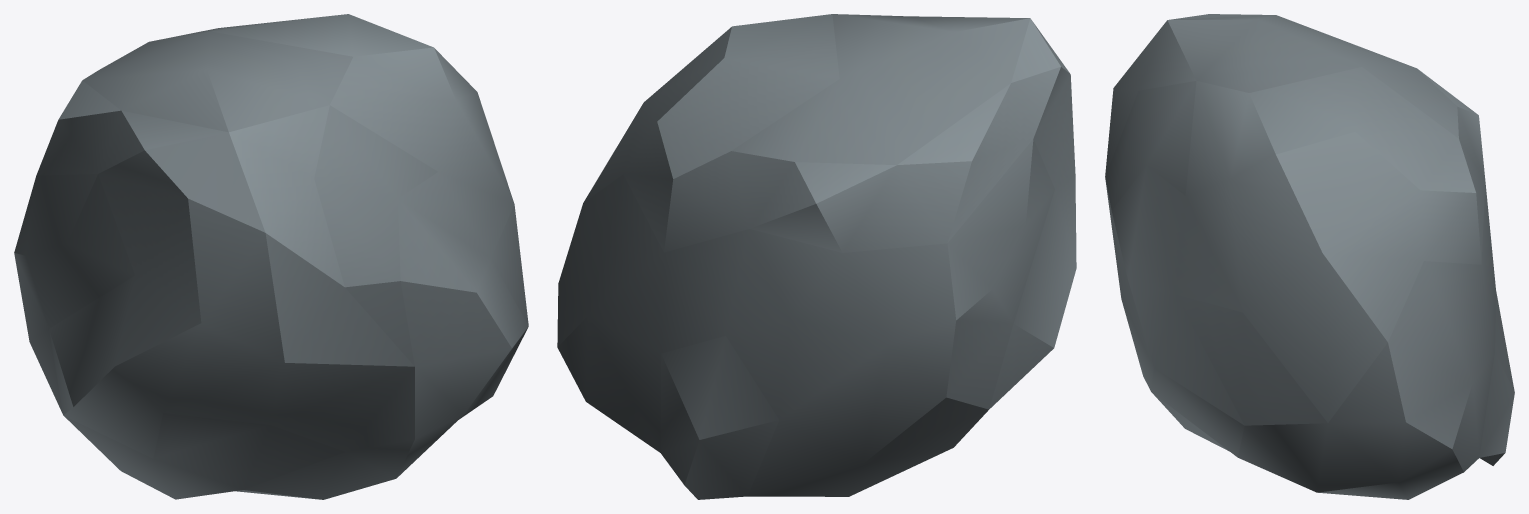
Rendered from Rock_3_J_Color1.glb.
The picture shows the model from 3 angles, left to right: view 1: azimuth 30°, elevation 25°; view 2: azimuth 150°, elevation 25°; view 3: azimuth 270°, elevation 25°; orthographic projection. The views are drawn at different scales.
Visible parts, largest first — view 1: Rock_3_J_Color1; view 2: Rock_3_J_Color1; view 3: Rock_3_J_Color1.
Boxes of the visible parts, box(x1,y1,x2,y2) form: Rock_3_J_Color1: box(14, 14, 528, 499); Rock_3_J_Color1: box(557, 14, 1076, 499); Rock_3_J_Color1: box(1105, 14, 1514, 499).
Bounding box in the file's own units: 1.97 × 1.9 × 1.74.
1 material, 1 textured.
